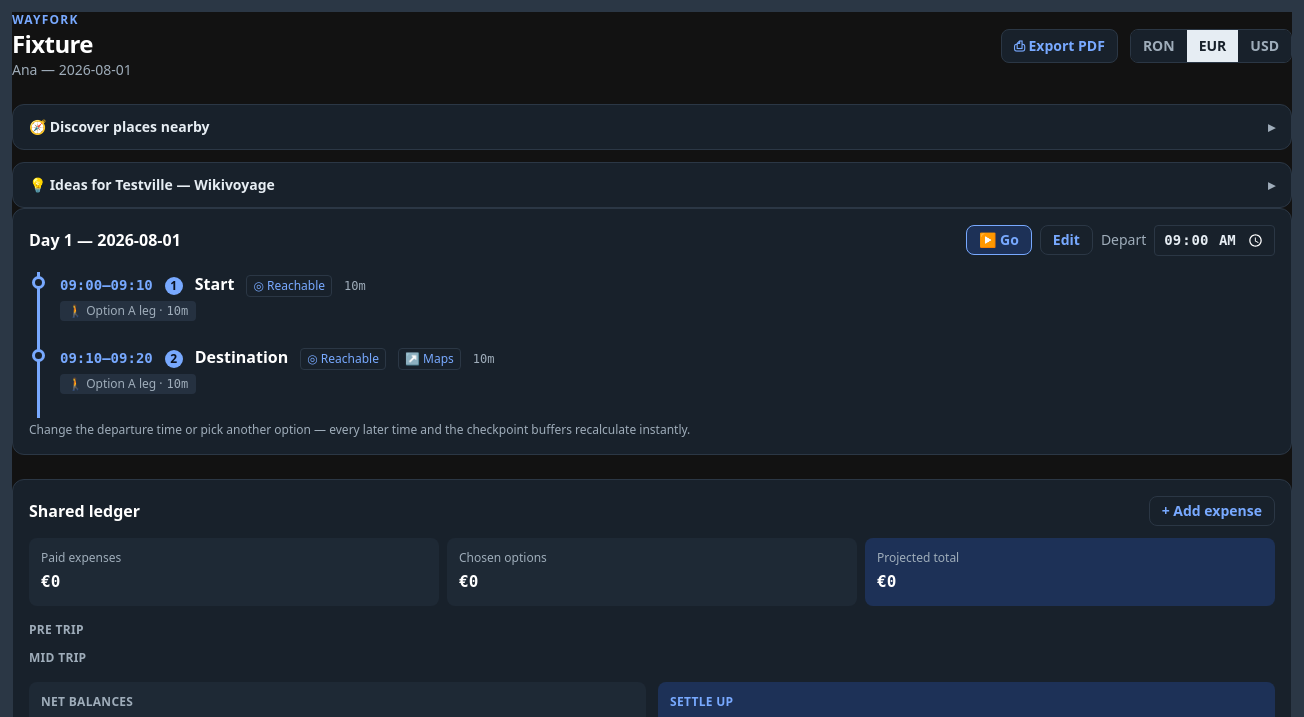
Scenario: TripView — 🚆 Transit option › shows an inline message on the destination slot when no itinerary is found
Click the button "Edit".
click(1066, 240)  # box [1040,225,1093,255]
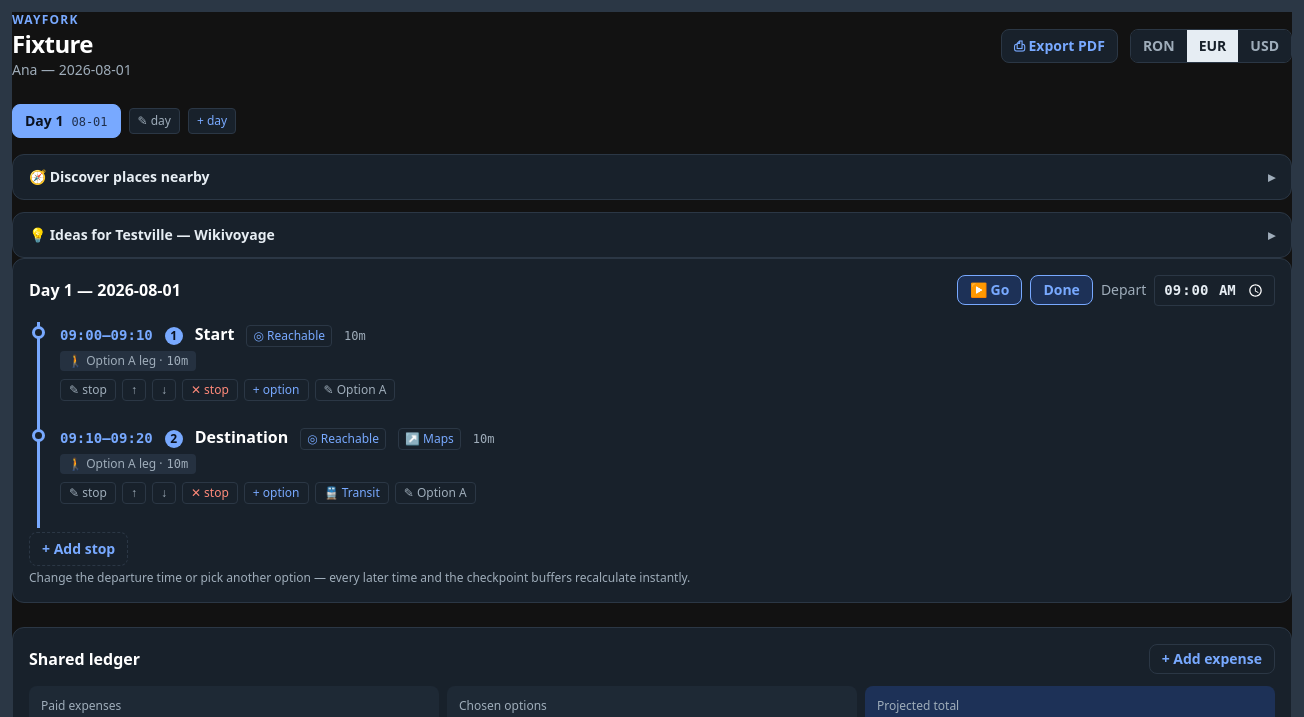
Click the button "🚆 Transit".
click(352, 493)  # box [314,482,389,504]
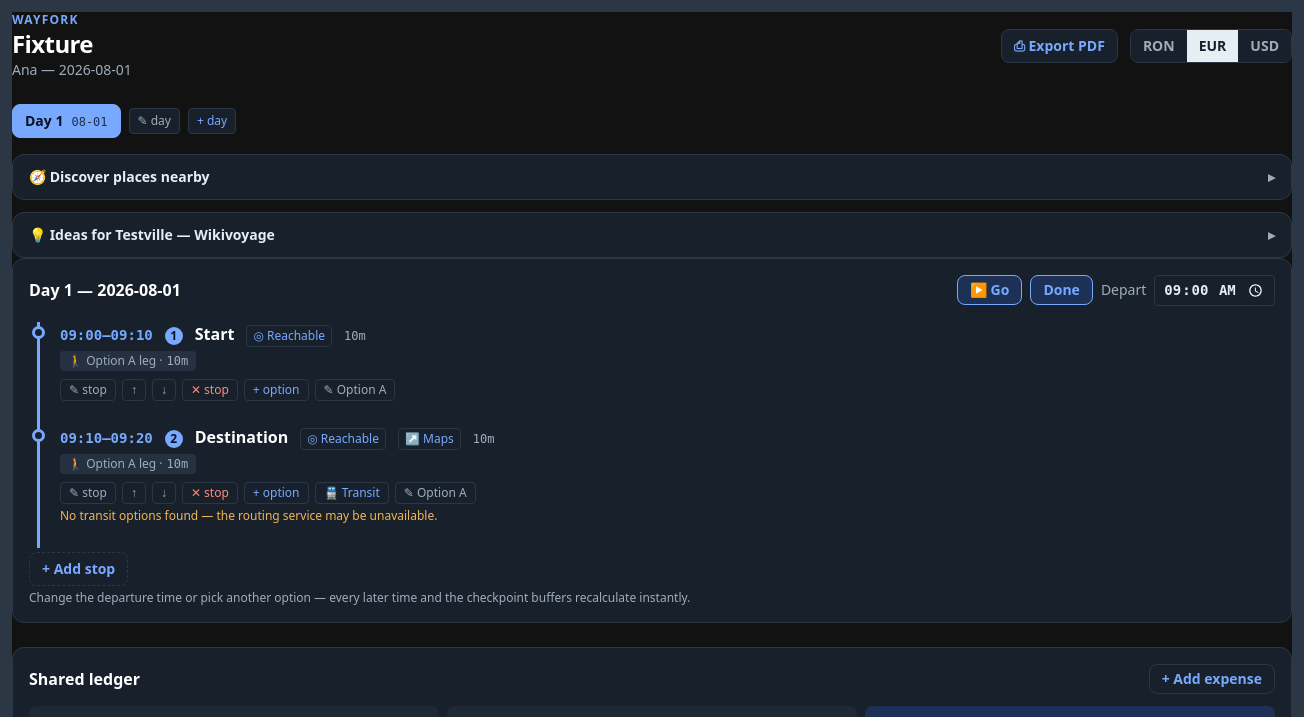
Result: the text "No transit options found" is shown at [60,507,437,524]
